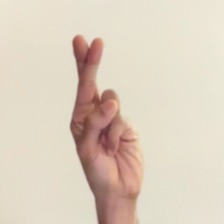R: (36, 25, 156, 208)
